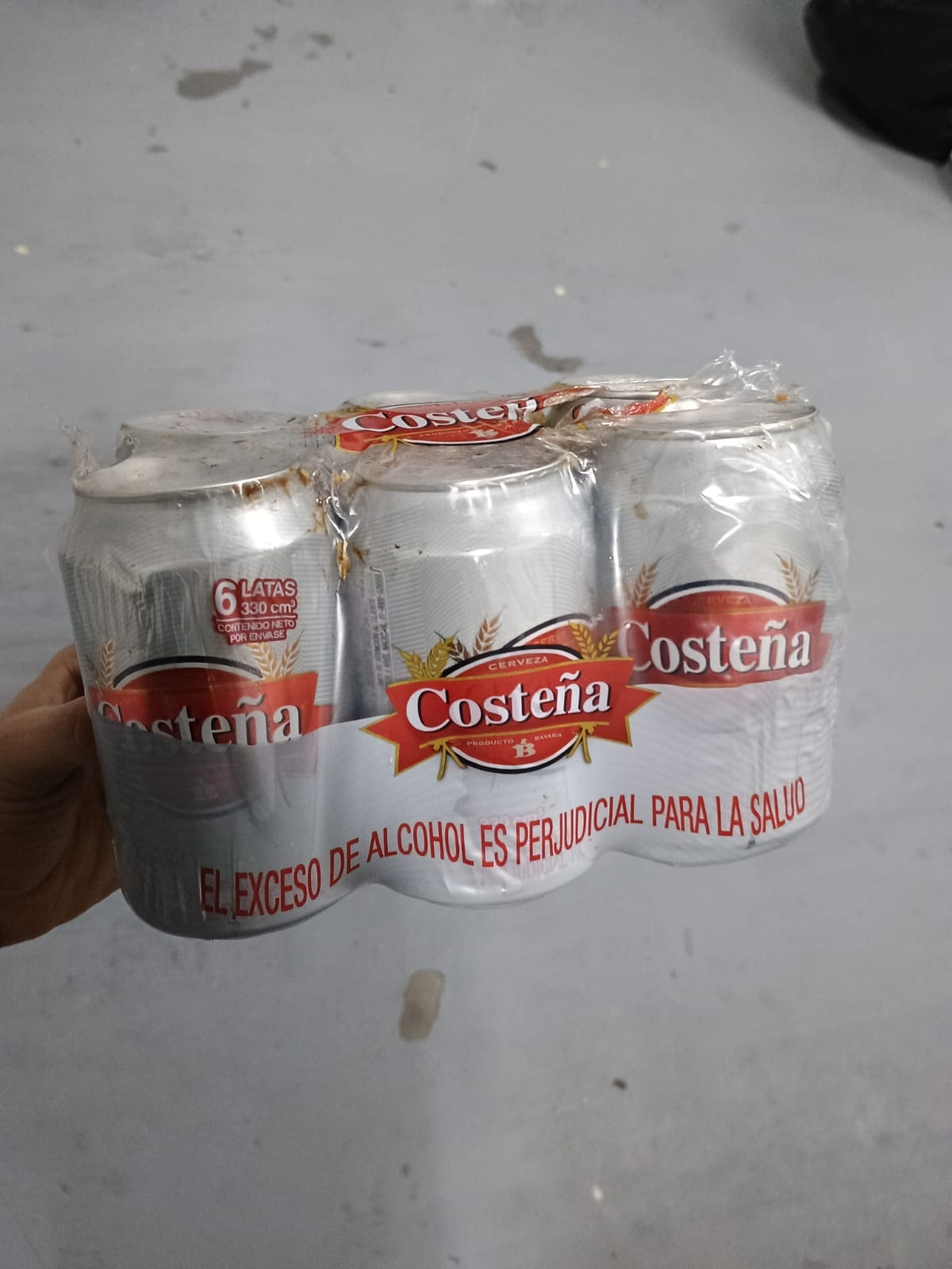Metal: (67, 373, 852, 936)
